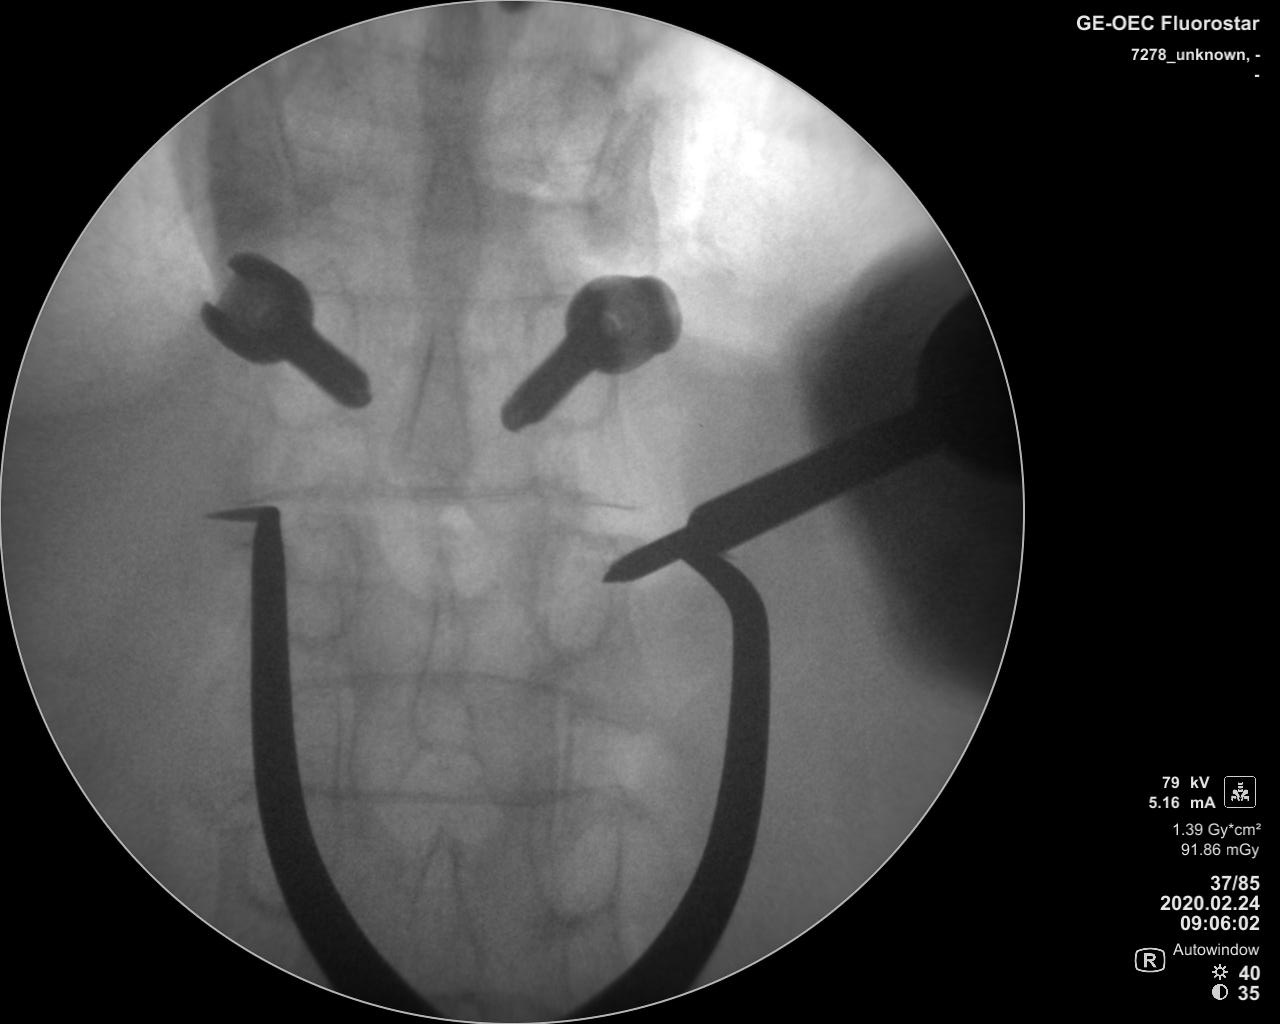eyes: (521, 792, 625, 926), (523, 525, 620, 664), (267, 281, 354, 432), (277, 514, 367, 649), (523, 65, 613, 190), (525, 302, 614, 427)
line: (233, 479, 630, 513), (299, 776, 612, 812), (289, 671, 613, 702), (315, 283, 560, 316)
nose: (405, 564, 481, 755), (408, 824, 487, 999), (396, 315, 469, 502), (408, 146, 483, 310), (421, 1, 488, 139)
